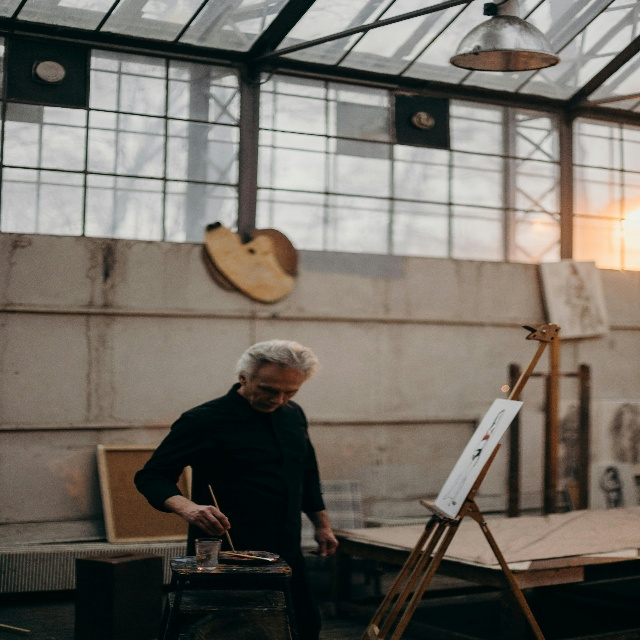Sin_guantes: (187, 503, 231, 536), (307, 527, 339, 557)
